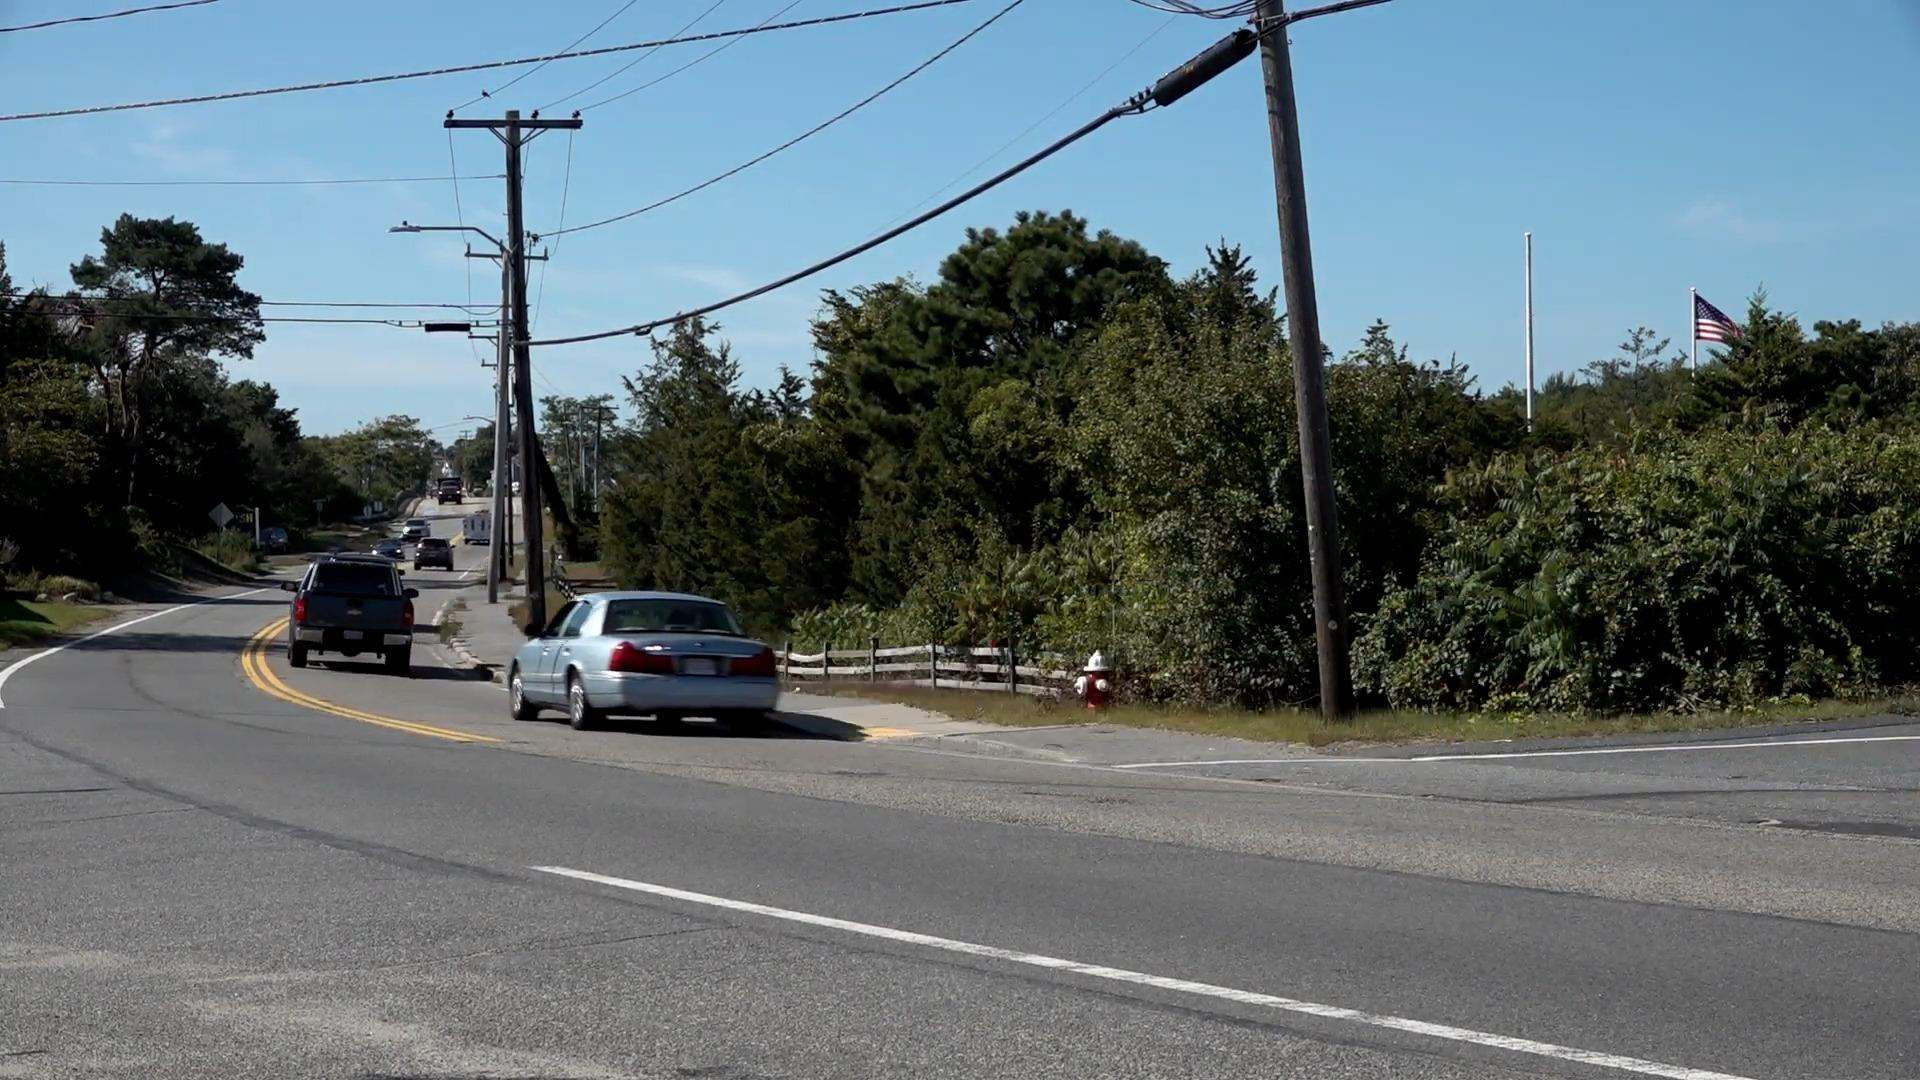pickup: (290, 558, 414, 679)
sedans: (510, 588, 774, 731)
